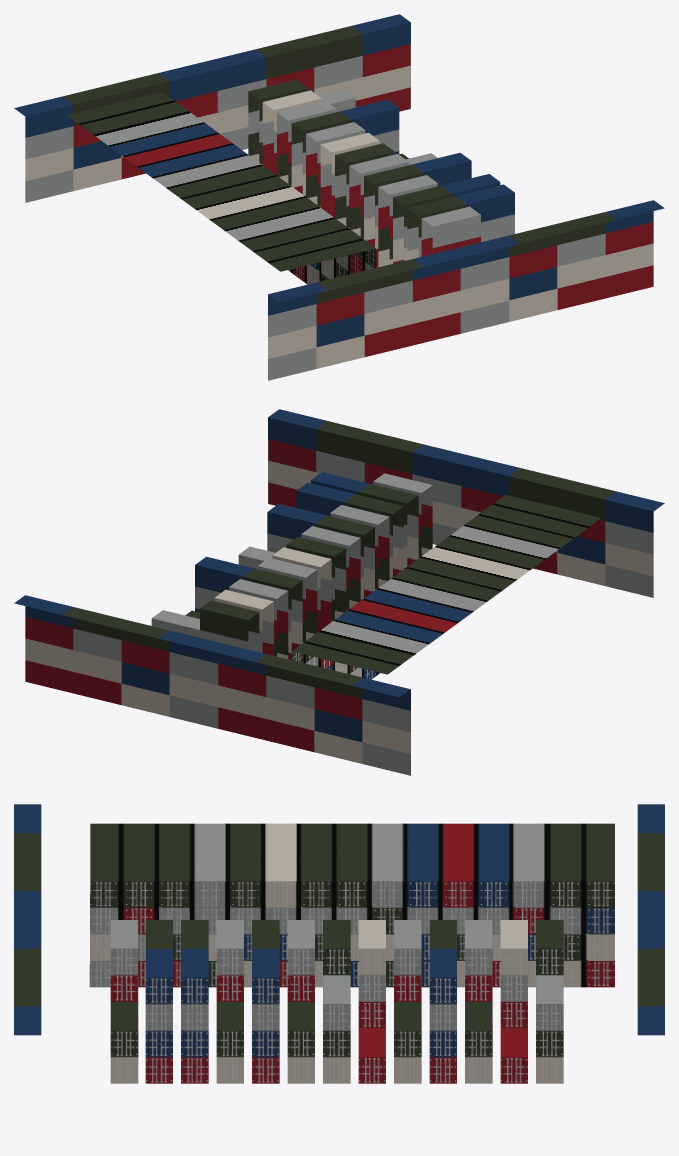
Rendered from New outside.fbx.
The picture shows the model from 3 angles, top to bottom: view 1: azimuth 30°, elevation 25°; view 2: azimuth 150°, elevation 25°; view 3: azimuth 270°, elevation 25°; orthographic projection. The views are drawn at different scales.
Parts seen in each view (by area): view 1: Wall Setup; view 2: Wall Setup; view 3: Wall Setup.
Boxes of the visible parts, x1,y1,x2,y2 form: Wall Setup: (14, 14, 664, 380); Wall Setup: (14, 409, 664, 775); Wall Setup: (14, 804, 664, 1083).
Bounding box in the file's own units: 4848 × 1040 × 5777.
Materials: 6 (6 with a texture image).
